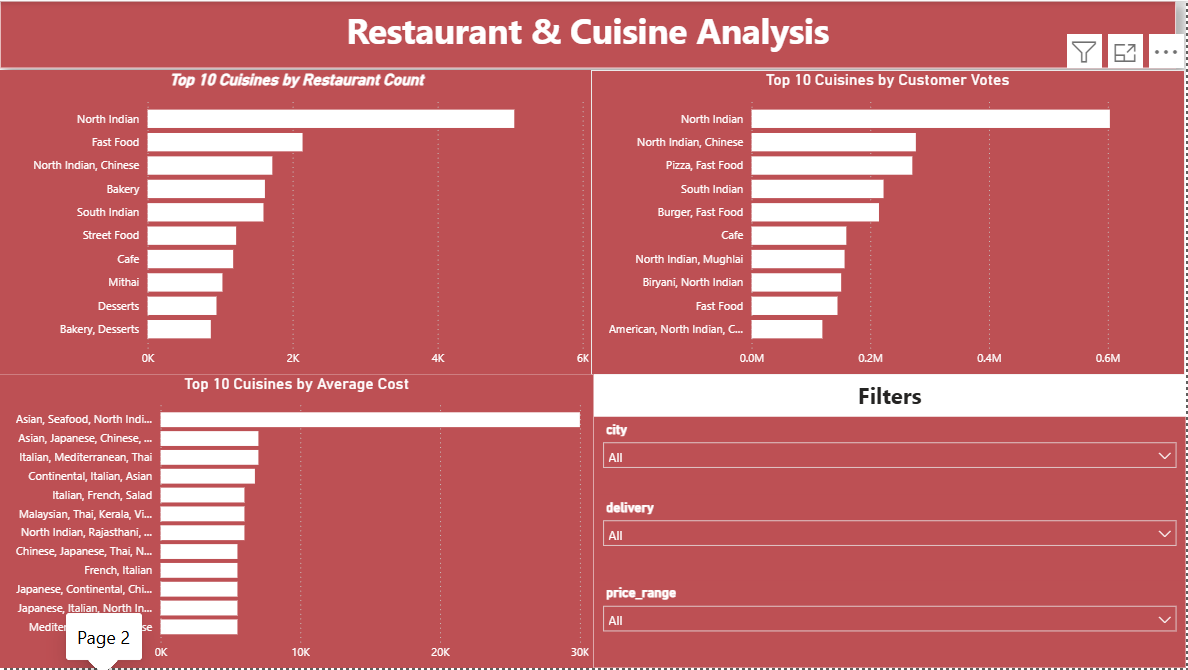

Layout of this report page (visuals, bound fields, positions):
{"tool":"powerbi","page":{"name":"Page 2","canvas":[1280,720],"ordinal":1},"visuals":[{"type":"textbox","box":[0,0,1269.5,72.9],"z":0},{"type":"clusteredBarChart","title":"Top 10 Cuisines by Restaurant Count","fields":{"Category":["zomato_cleaned.cuisines"],"Y":["CountNonNull(zomato_cleaned.name)"]},"box":[0,73.7,640.6,328.8],"z":1000},{"type":"clusteredBarChart","title":"Top 10 Cuisines by Customer Votes","fields":{"Category":["zomato_cleaned.cuisines"],"Y":["Sum(zomato_cleaned.votes)"]},"box":[638.7,73.7,640.6,328.8],"z":2000},{"type":"clusteredBarChart","title":"Top 10 Cuisines by Average Cost","fields":{"Category":["zomato_cleaned.cuisines"],"Y":["Avg(zomato_cleaned.average_cost_for_two)"]},"box":[0,402.5,640.6,317.5],"z":3000},{"type":"slicer","fields":{"Values":["zomato_cleaned.city"]},"box":[640.6,447.9,638.7,100.2],"z":4000},{"type":"slicer","fields":{"Values":["zomato_cleaned.price_range"]},"box":[640.6,625.5,638.7,94.5],"z":5000},{"type":"slicer","fields":{"Values":["zomato_cleaned.delivery"]},"box":[640.6,532.9,638.7,92.6],"z":6000},{"type":"textbox","box":[640.6,402.5,638.7,45.4],"z":7000}]}

Visuals, with their boxes in screenshot pixels (x1, y1, x2, y2), scaled from the page's 1280x720 canvas onto the 1188x670 screenshot:
textbox: 0/0/1178/68
"Top 10 Cuisines by Restaurant Count" clusteredBarChart: 0/69/595/375
"Top 10 Cuisines by Customer Votes" clusteredBarChart: 593/69/1187/375
"Top 10 Cuisines by Average Cost" clusteredBarChart: 0/375/595/669
slicer - zomato_cleaned.city: 595/417/1187/510
slicer - zomato_cleaned.price_range: 595/582/1187/669
slicer - zomato_cleaned.delivery: 595/496/1187/582
textbox: 595/375/1187/417
